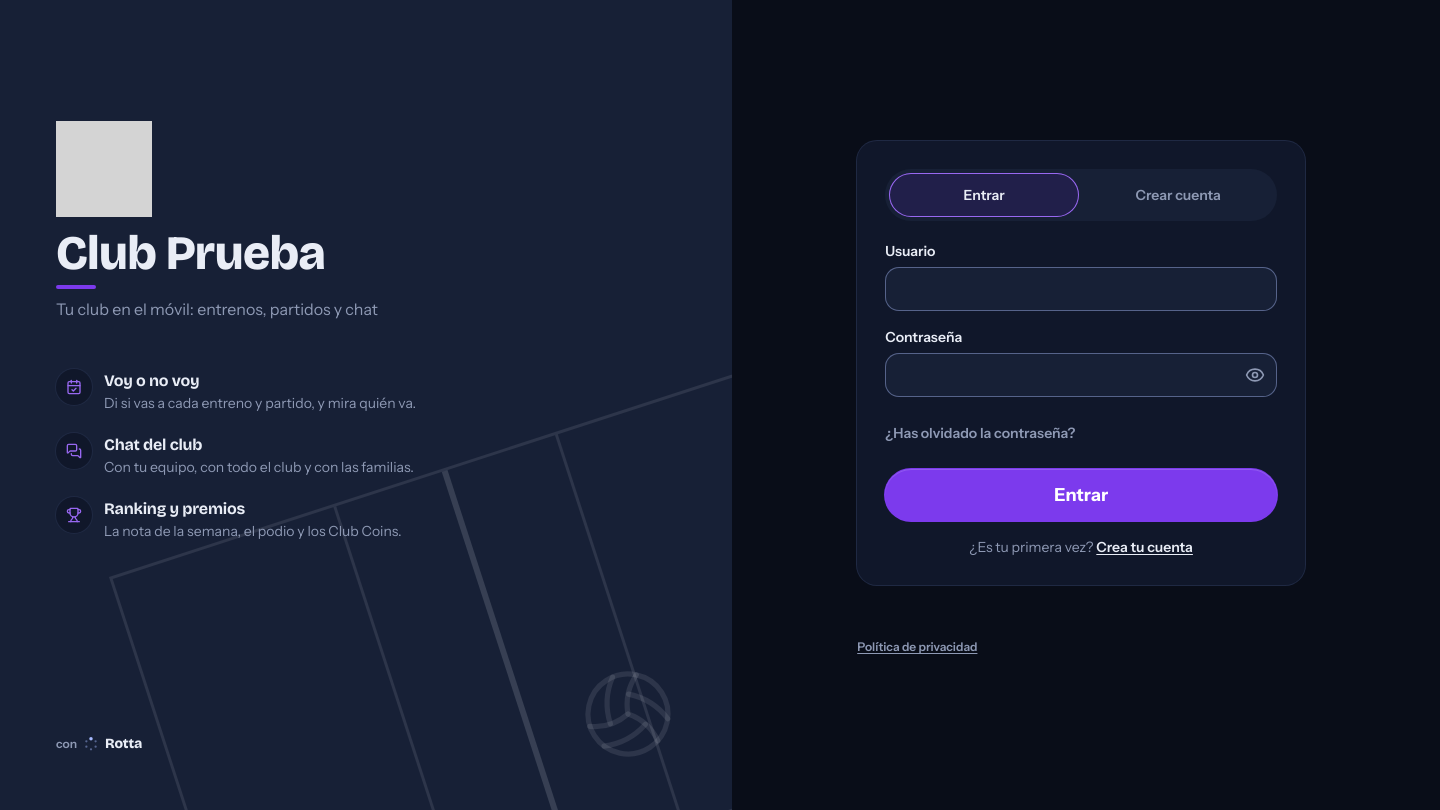
Test: LoginPage › crear cuenta cuenta los pasos que vienen; desde Entrar se llega con «Crea tu cuenta»
Click the button "Crea tu cuenta": x=1145, y=547 [1096,537,1193,557]
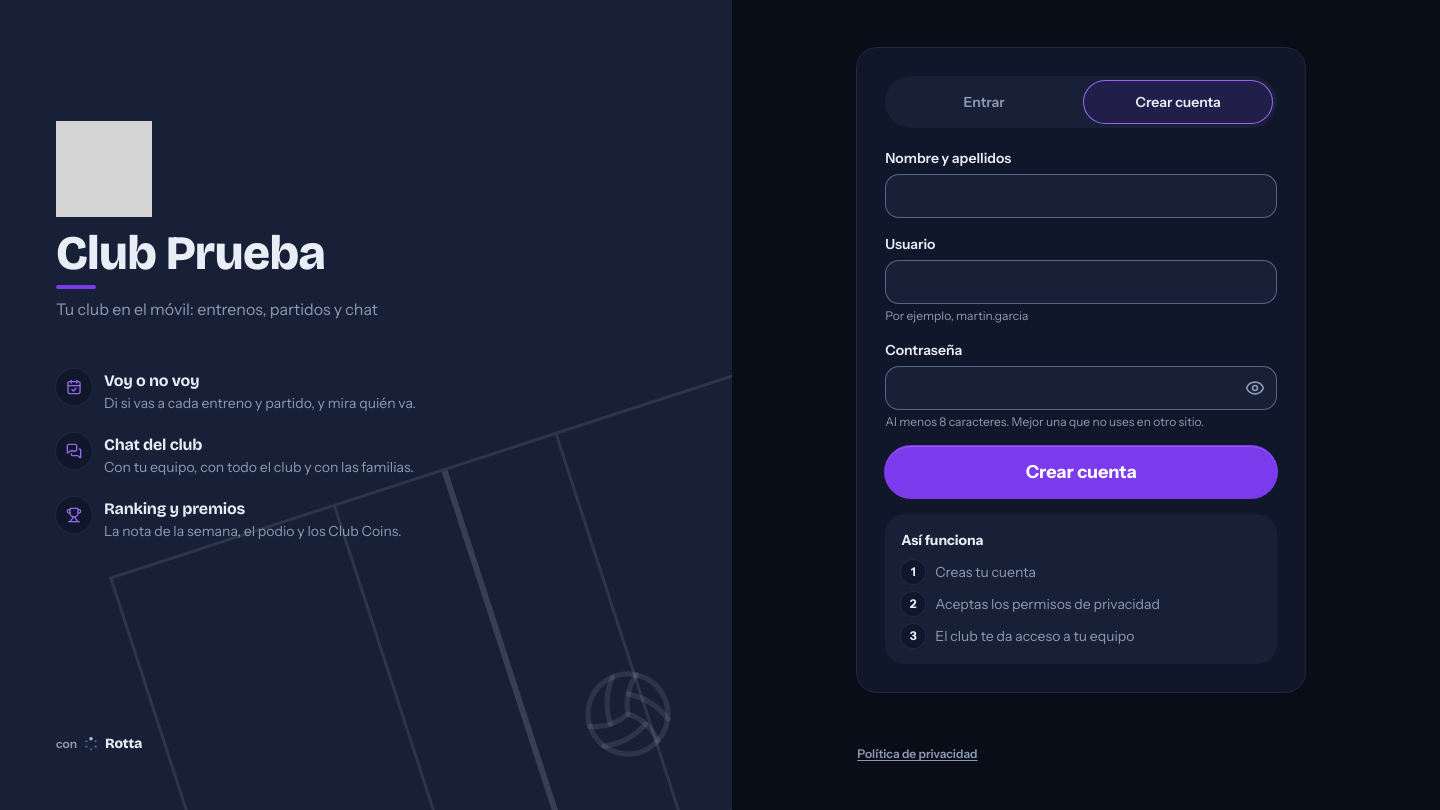
Now the text "Así funciona" is shown, box [901,531,984,549]
Now the list item "3 El club te da acceso a tu equipo" is shown, box [901,624,1134,648]
